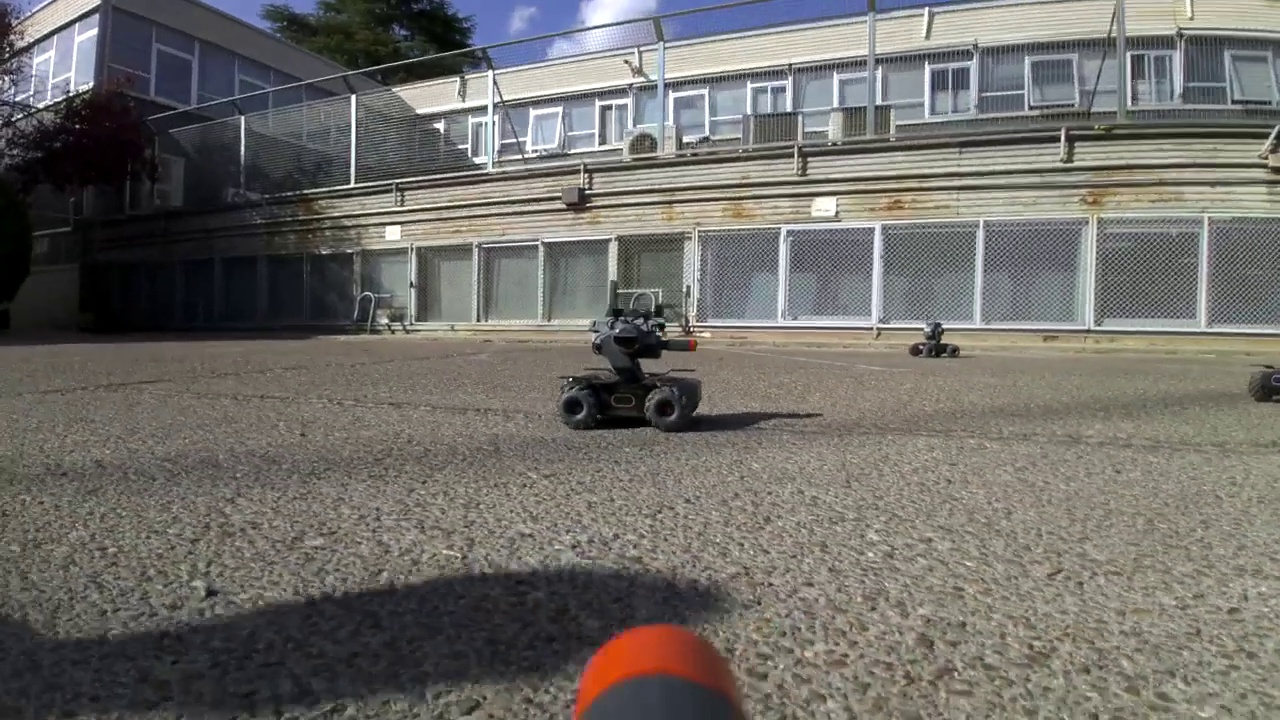robot: (563, 277, 705, 436), (906, 316, 962, 359), (1247, 366, 1280, 407)
